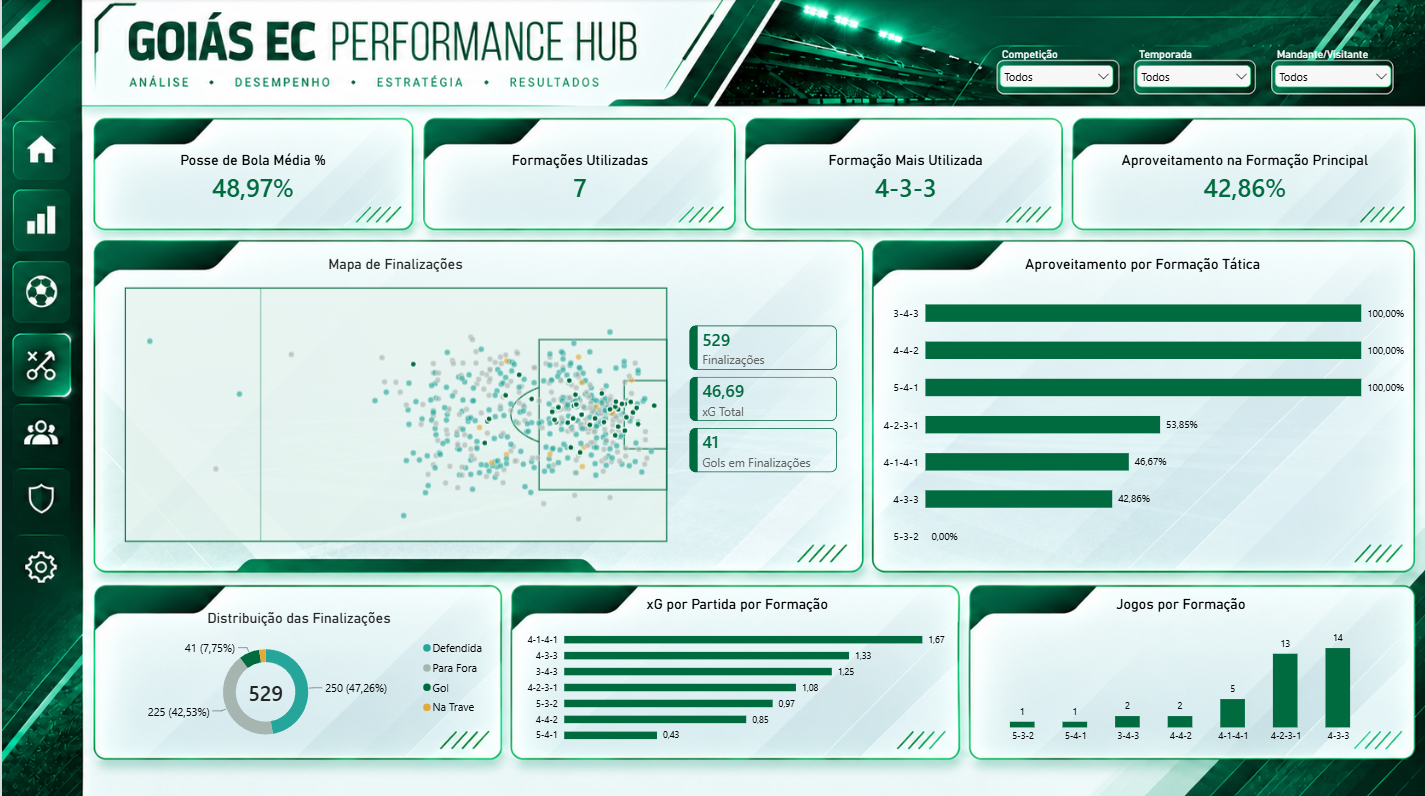

The page's visual inventory and layout, read from the dashboard file:
{"tool":"powerbi","page":{"name":"Análise Tática","canvas":[1920,1080],"ordinal":3},"visuals":[{"type":"cardVisual","fields":{"Data":["Medidas.Posse de Bola Média %"]},"box":[128.5,176.1,420.5,131.7],"z":0},{"type":"cardVisual","fields":{"Data":["Medidas.Formações Utilizadas"]},"box":[568.1,176.1,420.5,131.7],"z":1000},{"type":"cardVisual","fields":{"Data":["Medidas.Formação Mais Utilizada"]},"box":[1001.3,176.1,430,131.7],"z":2000},{"type":"cardVisual","fields":{"Data":["Medidas.Aproveitamento Formação Principal %"]},"box":[1444,176.1,460.2,131.7],"z":3000},{"type":"deneb7E15AEF80B9E4D4F8E12924291ECE89A","title":"Mapa de Finalizações","fields":{"dataset":["fato_finalizacoes_2025.id_finalizacao","fato_finalizacoes_2025.x","fato_finalizacoes_2025.y","fato_finalizacoes_2025.Tipo Finalização","fato_finalizacoes_2025.jogador","fato_finalizacoes_2025.minuto","fato_finalizacoes_2025.adversario"]},"box":[144.1,332.6,771.6,420.1],"z":5000},{"type":"cardVisual","title":"Resumo Ofensivo","fields":{"Data":["Medidas.Total Finalizações","Medidas.xG Total","Medidas.Gols em Finalizações"]},"box":[924.8,440.3,200.6,199.3],"z":6000},{"type":"clusteredBarChart","title":"Aproveitamento por Formação Tática","fields":{"Category":["fato_partida_clube.formacao"],"Y":["Medidas.Aproveitamento por Formação %"]},"box":[1167.1,332.3,736.9,441.5],"z":7000},{"type":"slicer","fields":{"Values":["fato_partida_clube.temporada"]},"box":[1523,67.3,164.3,68.7],"z":8000},{"type":"slicer","fields":{"Values":["fato_partida_clube.mando"]},"box":[1708.9,67.3,167,71.4],"z":9000},{"type":"slicer","fields":{"Values":["fato_partida_clube.Competicao Exibicao"]},"box":[1338.6,67.3,162.9,103.7],"z":10000},{"type":"donutChart","title":"Distribuição das Finalizações","fields":{"Category":["fato_finalizacoes_2025.Tipo Finalização"],"Y":["CountNonNull(fato_finalizacoes_2025.id_finalizacao)"]},"box":[127.9,809.3,544,214.1],"z":11000},{"type":"clusteredBarChart","title":"xG por Partida por Formação","fields":{"Category":["fato_partida_clube.formacao"],"Y":["Medidas.xG por Partida Formação"]},"box":[688.7,789.8,603.6,232.8],"z":12000},{"type":"clusteredColumnChart","title":"Jogos por Formação","fields":{"Category":["fato_partida_clube.formacao"],"Y":["Medidas.Jogos por Formação"]},"box":[1313.2,789.8,549,232.8],"z":13000},{"type":"actionButton","title":"BTN_Home","box":[29.6,179.1,51.2,66],"z":14000},{"type":"actionButton","title":"BTN_Performance_Coletiva","box":[25.6,277.4,59.3,55.2],"z":15000},{"type":"actionButton","box":[20.9,370.8,59.3,48.5],"z":16000},{"type":"actionButton","title":"BTN_Home","box":[20.2,556.2,63.3,66],"z":16001}]}

Visuals, with their boxes on the page's 1920x1080 design canvas (x1, y1, x2, y2). These are canvas units, not pixel positions in the 1425x796 screenshot, which may show the page scaled, cropped or inside an application window:
cardVisual - Medidas.Posse de Bola Média %: BBox(128, 176, 549, 308)
cardVisual - Medidas.Formações Utilizadas: BBox(568, 176, 989, 308)
cardVisual - Medidas.Formação Mais Utilizada: BBox(1001, 176, 1431, 308)
cardVisual - Medidas.Aproveitamento Formação Principal %: BBox(1444, 176, 1904, 308)
"Mapa de Finalizações" deneb7E15AEF80B9E4D4F8E12924291ECE89A: BBox(144, 333, 916, 753)
"Resumo Ofensivo" cardVisual: BBox(925, 440, 1125, 640)
"Aproveitamento por Formação Tática" clusteredBarChart: BBox(1167, 332, 1904, 774)
slicer - fato_partida_clube.temporada: BBox(1523, 67, 1687, 136)
slicer - fato_partida_clube.mando: BBox(1709, 67, 1876, 139)
slicer - fato_partida_clube.Competicao Exibicao: BBox(1339, 67, 1502, 171)
"Distribuição das Finalizações" donutChart: BBox(128, 809, 672, 1023)
"xG por Partida por Formação" clusteredBarChart: BBox(689, 790, 1292, 1023)
"Jogos por Formação" clusteredColumnChart: BBox(1313, 790, 1862, 1023)
"BTN_Home" actionButton: BBox(30, 179, 81, 245)
"BTN_Performance_Coletiva" actionButton: BBox(26, 277, 85, 333)
actionButton: BBox(21, 371, 80, 419)
"BTN_Home" actionButton: BBox(20, 556, 84, 622)
